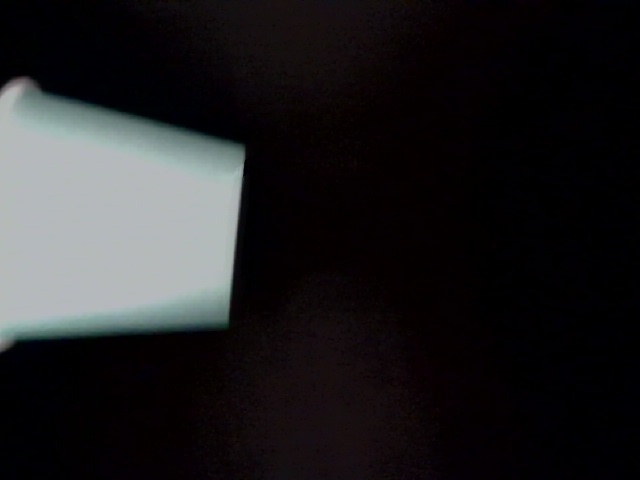CYLJ: (552, 79, 640, 194)
